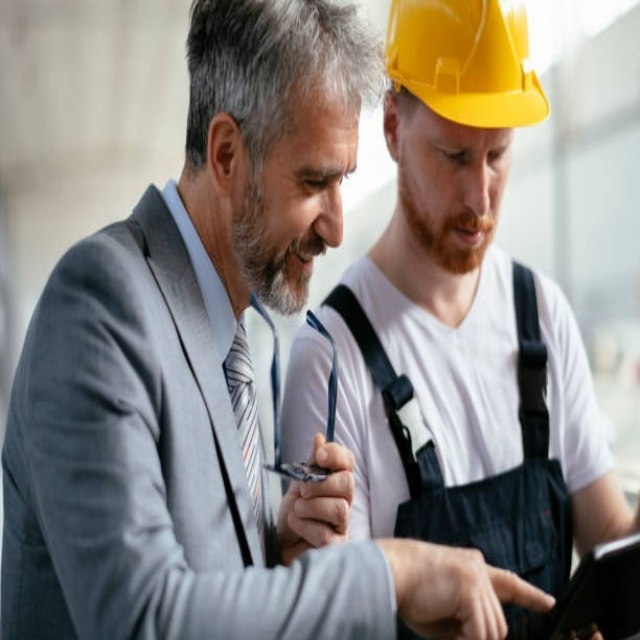Sin_gafas: (273, 147, 361, 201), (430, 129, 521, 171)
Sin_guantes: (398, 546, 554, 640), (276, 431, 355, 554)
Sin_mascara: (260, 242, 343, 311), (444, 213, 494, 273)
